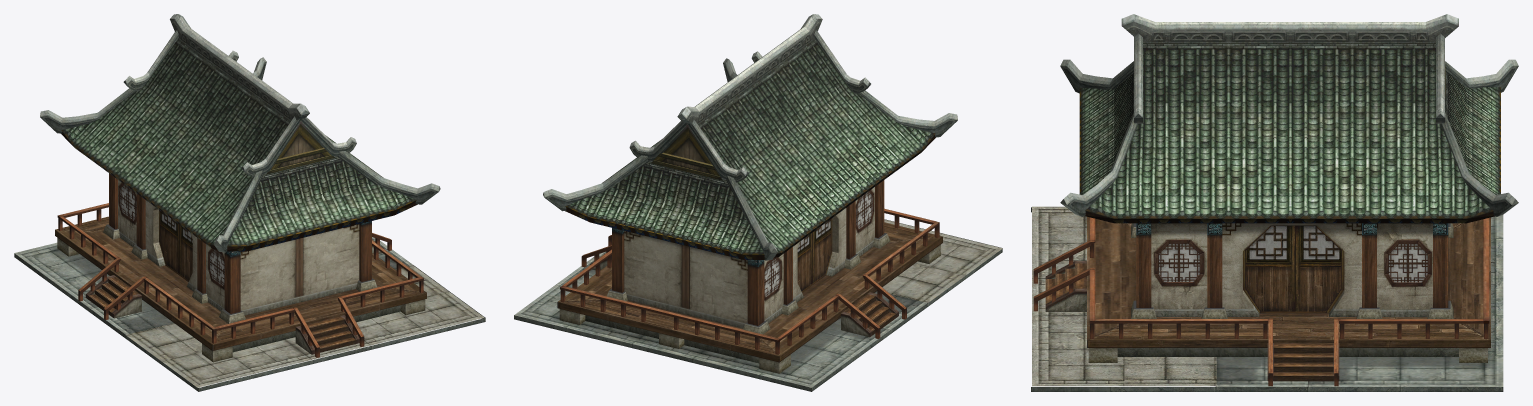
File: c1-008-house5.fbx
3 renders of one model, left to right at view 1: azimuth 30°, elevation 25°; view 2: azimuth 150°, elevation 25°; view 3: azimuth 270°, elevation 25°, orthographic. The views are drawn at different scales.
Visible parts, largest first — view 1: b1-008-house5; view 2: b1-008-house5; view 3: b1-008-house5.
Part boxes in pixels (left/top/right/bottom): b1-008-house5: left=14, top=14, right=485, bottom=391; b1-008-house5: left=514, top=14, right=1002, bottom=391; b1-008-house5: left=1031, top=14, right=1518, bottom=391.
Bounding box in the file's own units: 14.76 × 11 × 16.91.
